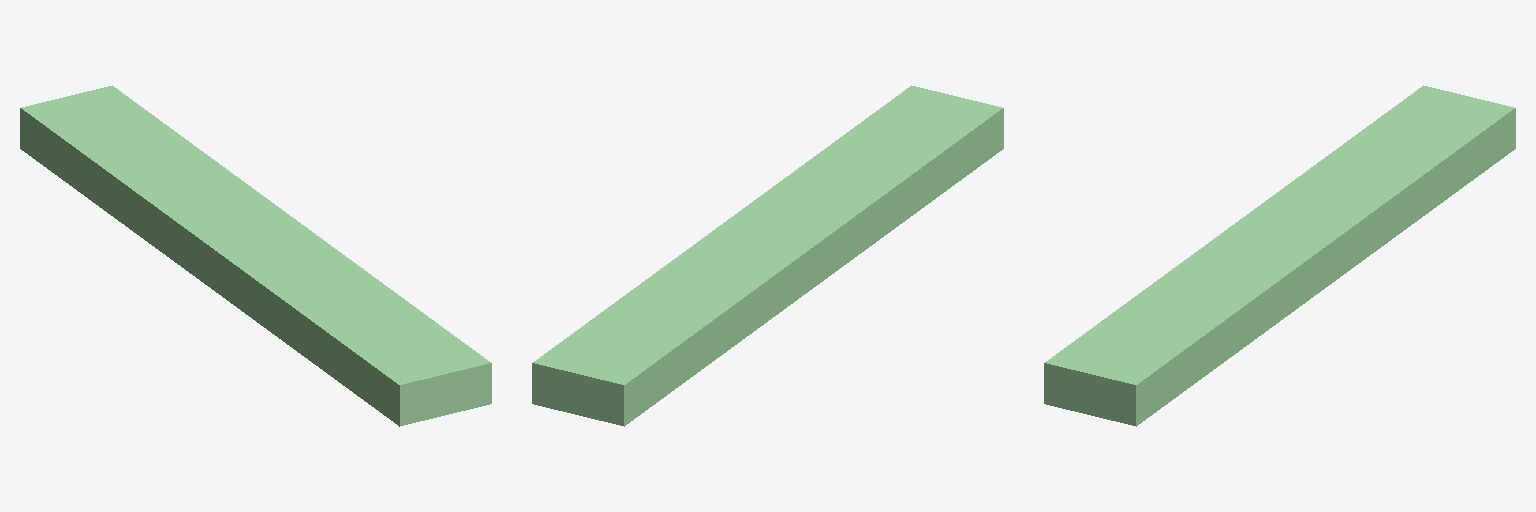
robot.urdf — conveyor:
<?xml version="1.0"?>

<robot name="conveyor">

  <link name="conveyor_block">
    <visual>
      <origin xyz="0.6 0.6 0.14" />
      <geometry>
        <box size="0.35 2.5 0.15" />
      </geometry>
      <material name='light_green'>
        <color rgba="0.7 0.9 0.7 1" />
      </material>
    </visual>

    <collision>
      <origin xyz="0.6 0.6 0.14" />
      <geometry>
        <box size="0.35 2.5 0.15" />
      </geometry>
    </collision>
  </link>

</robot>

--- Render facts (derived) ---
Views: 3 orthographic renders of the robot side by side, from view 1: azimuth 30°, elevation 25°; view 2: azimuth 150°, elevation 25°; view 3: azimuth 330°, elevation 25°.
Robot: conveyor — 1 links, 0 joints (none); root link conveyor_block; default pose: every joint at zero.
Links seen in each view (by area): view 1: conveyor_block; view 2: conveyor_block; view 3: conveyor_block.
Boxes of the visible links, <box> form: conveyor_block: <box>20,85,491,426</box>; conveyor_block: <box>532,85,1003,426</box>; conveyor_block: <box>1044,85,1515,426</box>.
Bounding box of the posed robot: 0.35 × 2.5 × 0.15 m (x, y, z).
Geometry: primitives only (box / cylinder / sphere), no mesh files.